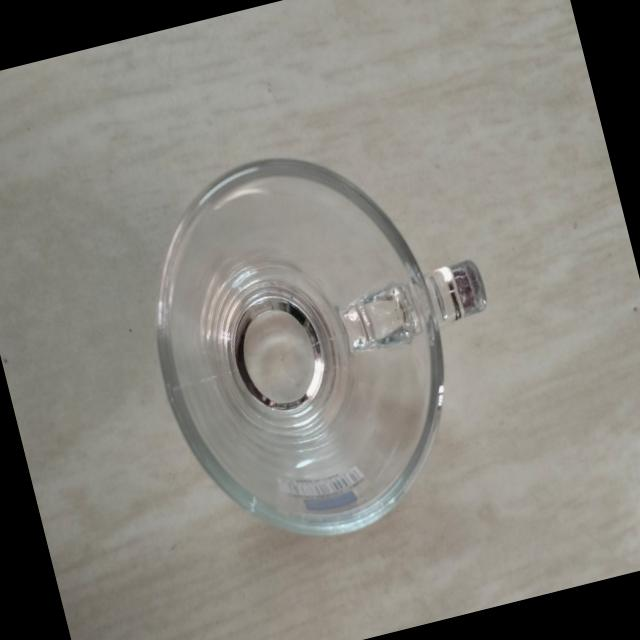glass-VX4N: (114, 112, 531, 567)
